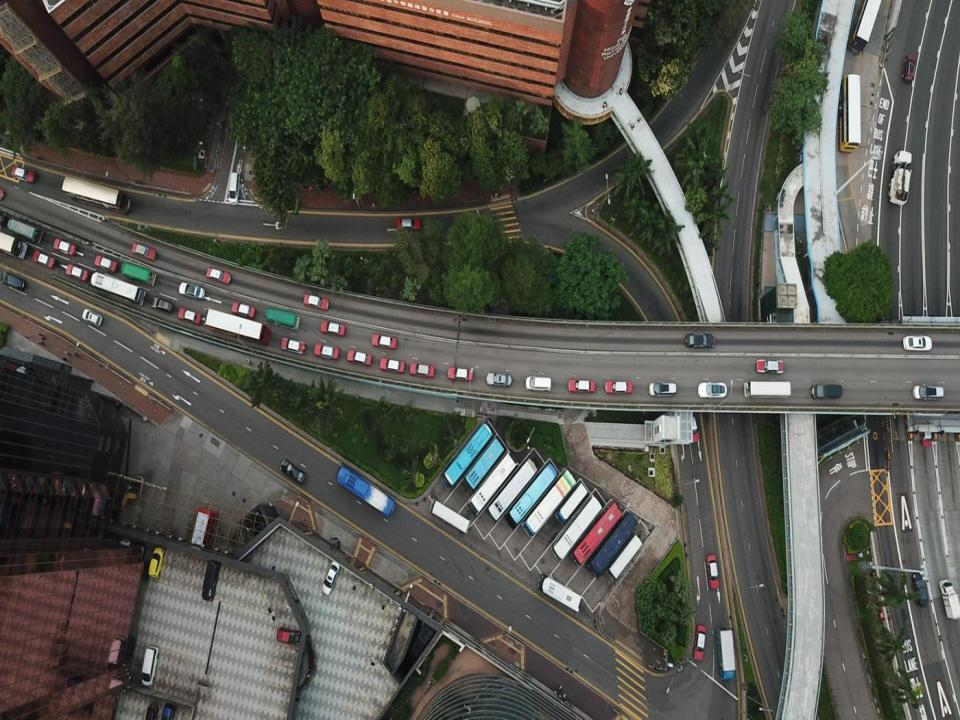bus: (521, 470, 575, 539), (506, 461, 558, 530), (486, 456, 538, 524), (441, 422, 492, 491), (571, 500, 623, 567), (466, 451, 518, 517), (335, 462, 396, 518), (551, 495, 602, 561), (588, 511, 638, 578), (181, 507, 218, 589), (62, 175, 130, 214), (204, 308, 272, 346), (464, 434, 504, 491), (837, 74, 861, 154), (536, 572, 583, 612), (90, 272, 145, 306), (847, 0, 881, 55), (606, 534, 642, 581), (554, 481, 588, 526), (428, 498, 470, 534), (7, 217, 42, 244), (120, 261, 155, 286), (266, 306, 300, 331), (743, 380, 790, 398), (0, 231, 27, 259)
car: (126, 542, 146, 579), (321, 561, 340, 596), (280, 459, 306, 484), (326, 537, 342, 576), (148, 546, 166, 580), (684, 408, 700, 443), (114, 538, 131, 569), (178, 281, 205, 300), (685, 333, 716, 349), (303, 293, 329, 312), (903, 334, 932, 351), (281, 336, 305, 356), (697, 381, 727, 397), (131, 242, 156, 261), (693, 624, 706, 660), (32, 249, 56, 268), (93, 254, 118, 272), (206, 267, 231, 285), (346, 349, 372, 366), (706, 554, 719, 588), (53, 237, 76, 256), (101, 536, 116, 565), (755, 359, 784, 374), (178, 307, 202, 325), (231, 301, 256, 318), (314, 343, 339, 360), (920, 412, 932, 447), (378, 357, 404, 373), (448, 365, 474, 381), (11, 166, 35, 183), (65, 264, 89, 281), (605, 379, 632, 394), (320, 321, 346, 336), (371, 334, 397, 349), (569, 379, 596, 393), (410, 362, 434, 377), (486, 372, 512, 385), (396, 218, 421, 231), (145, 704, 158, 719)
truck: (888, 150, 912, 205), (716, 628, 735, 680), (939, 578, 960, 620)
van: (202, 559, 220, 601), (141, 647, 159, 685), (912, 572, 928, 607), (810, 382, 842, 399), (912, 383, 944, 400), (649, 380, 676, 397), (1, 272, 25, 291), (228, 172, 241, 206), (526, 375, 552, 392), (276, 628, 301, 645), (151, 296, 173, 313), (903, 55, 916, 82), (82, 309, 102, 326), (160, 703, 176, 719)
